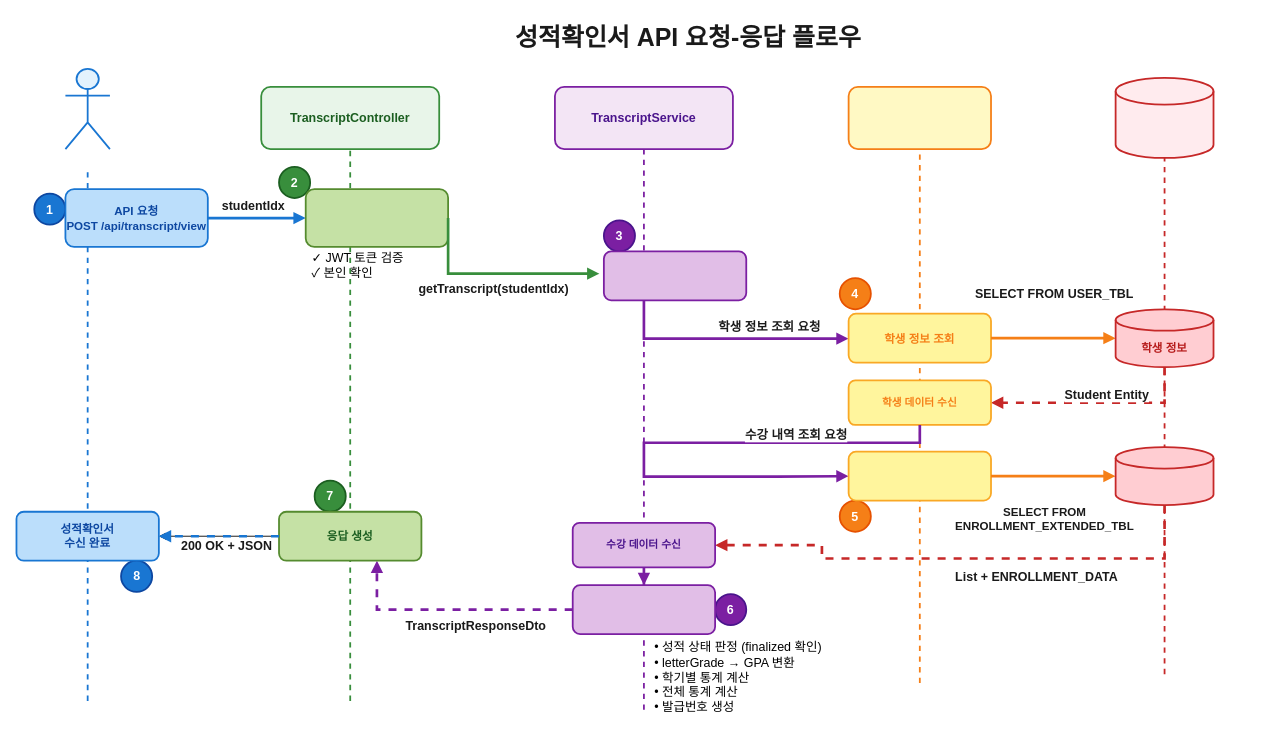
The diagram is 1273 pixels wide and 730 high, and some of its shapes have lost their labels. The shapes that lost their labels are listed below. From the top down, each one's box as (x1, y1, x2, y2) in pixels, then its label:
(64, 68, 110, 150): 클라이언트
(847, 85, 991, 150): Repository
(1114, 77, 1214, 158): Database
(304, 188, 449, 247): 요청 수신 및 검증
(603, 250, 747, 301): 서비스 계층 처리 시작
(847, 450, 991, 501): 수강 내역 조회
(1114, 446, 1214, 506): 수강 내역 + 성적 데이터
(571, 584, 716, 635): 비즈니스 로직 처리
